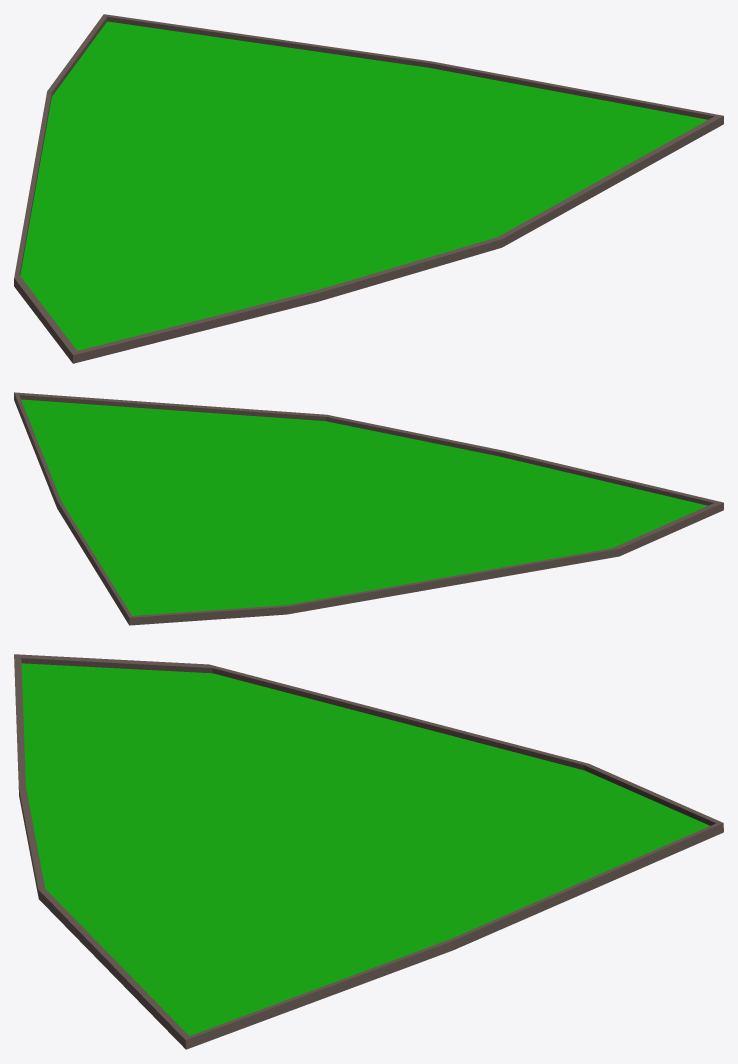
The model's file is vegetation_place_2.fbx.
3 renders of one model, top to bottom at view 1: azimuth 30°, elevation 25°; view 2: azimuth 150°, elevation 25°; view 3: azimuth 270°, elevation 25°, orthographic. The views are drawn at different scales.
Visible parts, largest first — view 1: polySurface49; view 2: polySurface49; view 3: polySurface49.
Boxes of the visible parts, x1,y1,x2,y2 form: polySurface49: [14, 14, 723, 363]; polySurface49: [14, 392, 723, 625]; polySurface49: [14, 654, 723, 1049].
Size of the model in its own units: 28.97 by 1.04 by 22.22.
